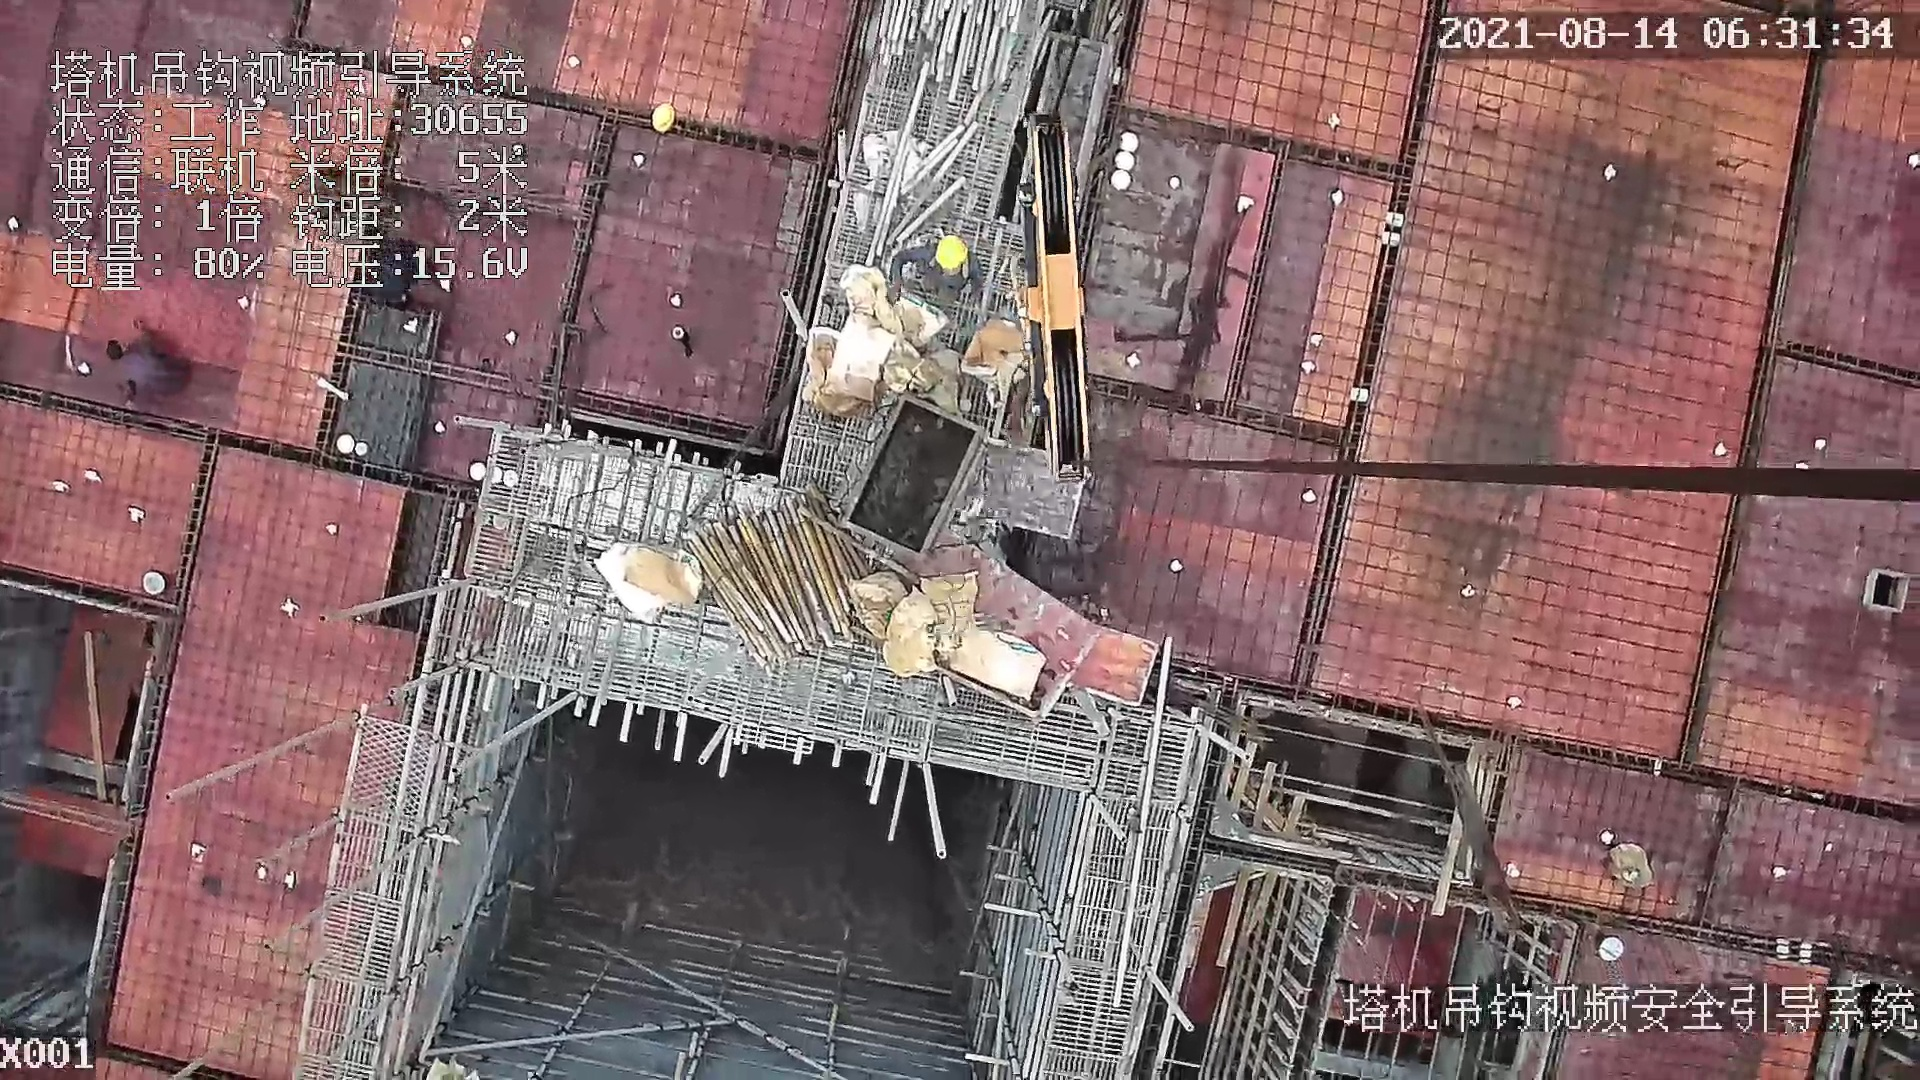helmet: (931, 233, 973, 269), (647, 99, 683, 140)
hook: (1015, 117, 1099, 483)
hopper: (856, 404, 991, 571)
person: (888, 237, 1005, 317), (97, 337, 195, 409)
scaffold: (692, 487, 873, 669)
